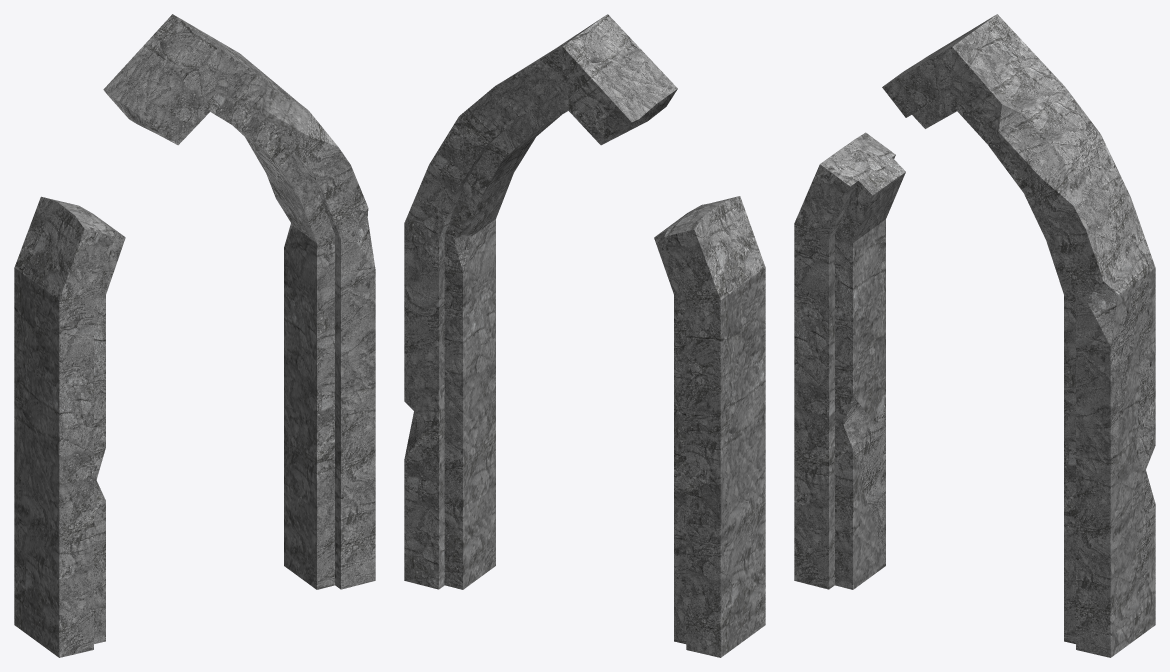
The model's file is materials_3_gate_3.fbx.
3 renders of one model, left to right at view 1: azimuth 30°, elevation 25°; view 2: azimuth 150°, elevation 25°; view 3: azimuth 330°, elevation 25°, orthographic.
Visible parts, largest first — view 1: materials_3_gate_3; view 2: materials_3_gate_3; view 3: materials_3_gate_3.
Part boxes in pixels (x1,y1,x2,y2): materials_3_gate_3: (14,14,375,657); materials_3_gate_3: (404,14,765,657); materials_3_gate_3: (794,14,1155,657).
Size of the model in its own units: 184 by 319 by 45.53.
